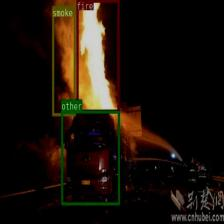fire: (76, 0, 119, 112)
smoke: (52, 5, 76, 116)
